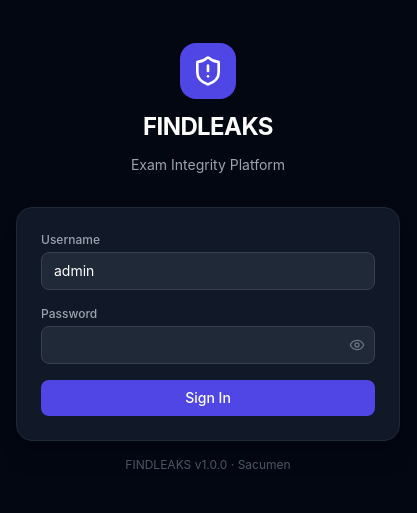
Scenario: Login page › redirects on success
Type "correct" into the password field with test id "password-input" at (208, 345), box [41, 326, 375, 364]
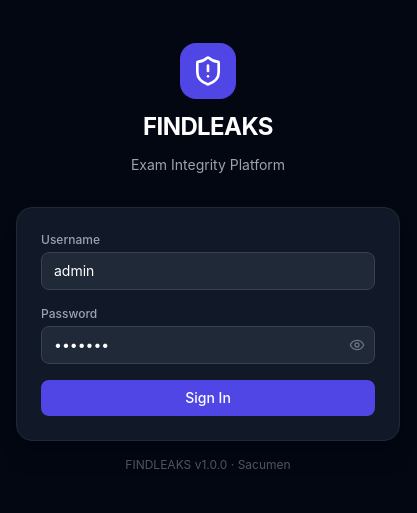
Click the button with test id "login-button" at (208, 398), box [41, 380, 375, 416]
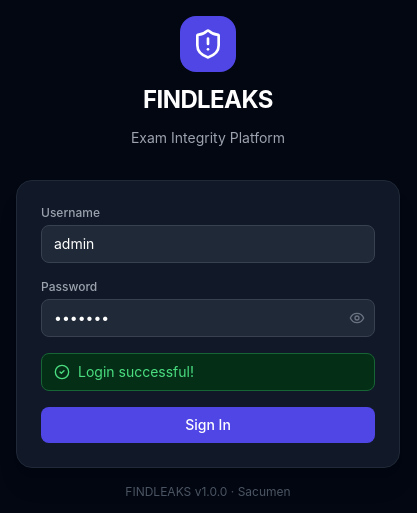
Now the text "Login successful!" is shown, box [41, 353, 375, 391]
